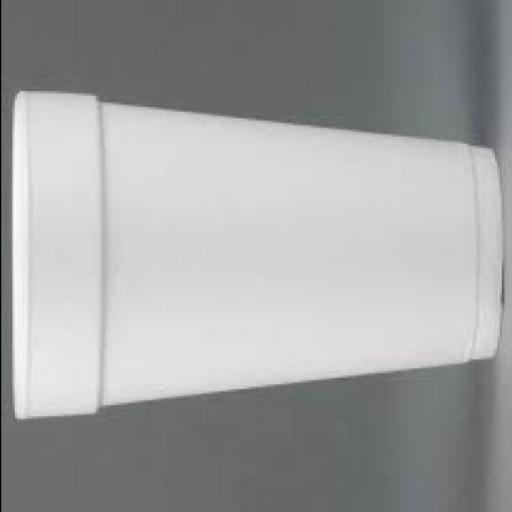paper: (9, 94, 501, 424)
